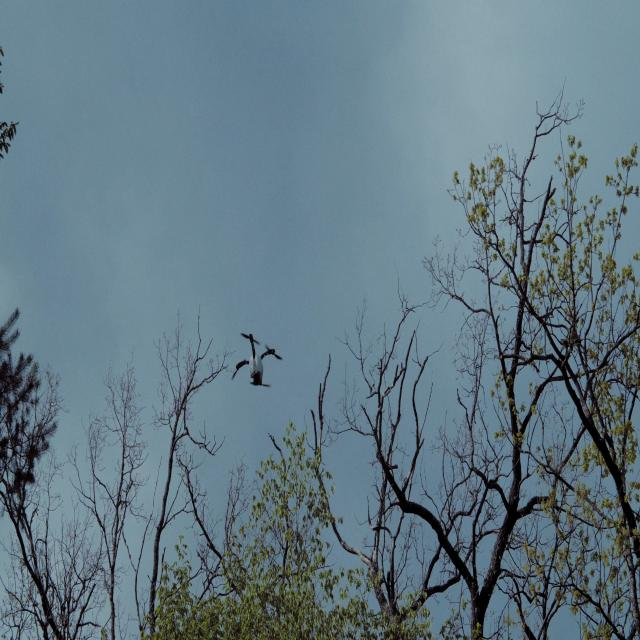Drone: (233, 317, 287, 397)
